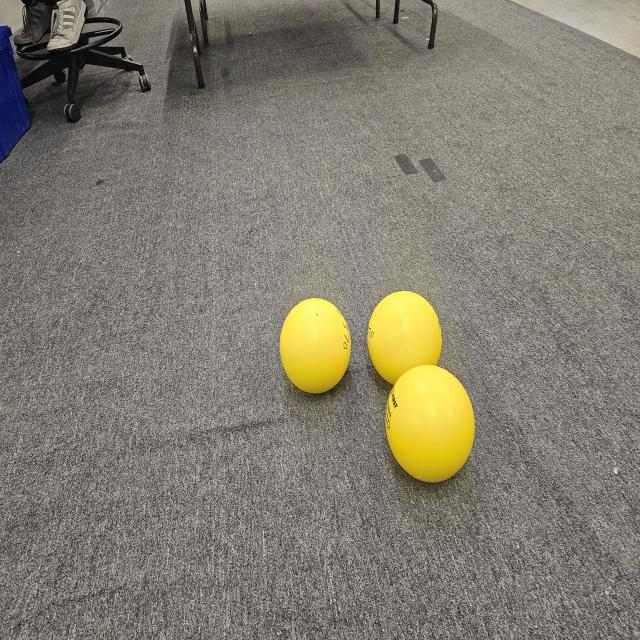Fuel: (387, 365, 473, 482), (368, 291, 442, 391), (282, 298, 352, 392)
